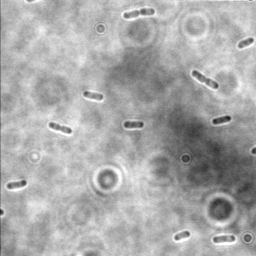Dividing: (190, 68, 219, 91), (122, 7, 156, 19), (47, 121, 73, 135)
Rod: (211, 233, 236, 245), (81, 90, 105, 102), (236, 36, 254, 51), (6, 178, 27, 190), (172, 229, 191, 241), (211, 114, 231, 125), (123, 120, 145, 129)
